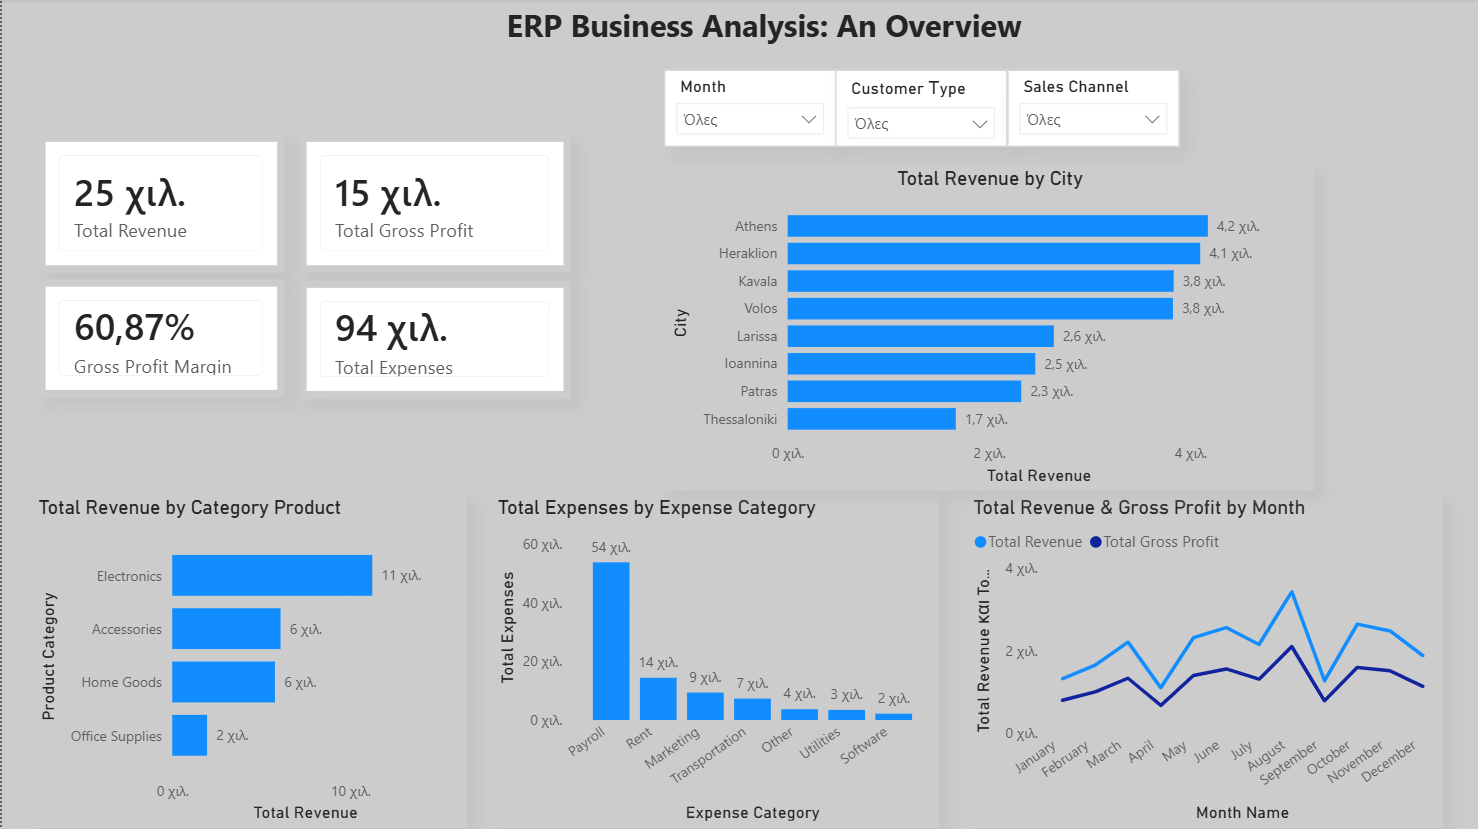

What the dashboard file says about the page in this screenshot:
{"tool":"powerbi","page":{"name":"Overview","canvas":[1280,720],"ordinal":0},"visuals":[{"type":"cardVisual","fields":{"Data":["Sum(view.Revenue)"]},"box":[32,118.3,213,119.5],"z":0},{"type":"cardVisual","fields":{"Data":["Sum(view.Gross_Profit)"]},"box":[258,118.3,235.5,119.5],"z":1000},{"type":"cardVisual","fields":{"Data":["Sum(expenses.amount)"]},"box":[258,245,235.5,103],"z":2000},{"type":"lineChart","title":"Total Revenue & Gross Profit by Month","fields":{"Category":["calendar.month_name"],"Y":["Sum(view.Revenue)","Sum(view.Gross_Profit)"]},"box":[836.7,430.8,413,288.8],"z":3000},{"type":"barChart","title":"Total Revenue by Category Product","fields":{"Y":["Sum(view.Revenue)"],"Category":["view.product_category"]},"box":[26,430.8,377.5,288.8],"z":4000},{"type":"clusteredColumnChart","title":"Total Expenses by Expense Category","fields":{"Y":["Sum(expenses.amount)"],"Category":["expenses.expense_category"]},"box":[423.7,430.8,388.2,288.8],"z":5000},{"type":"slicer","title":"Month","fields":{"Values":["calendar.month_name"]},"box":[574,62.7,149.1,66.3],"z":6000},{"type":"slicer","fields":{"Values":["view.customer_type"]},"box":[723.1,62.7,149.1,66.3],"z":7000},{"type":"cardVisual","fields":{"Data":["calendar.Gross Profit Margin"]},"box":[32,243.8,213,103],"z":8000},{"type":"slicer","fields":{"Values":["view.sales_channel"]},"box":[872.2,62.7,149.1,66.3],"z":9000},{"type":"clusteredBarChart","title":"Total Revenue by City","fields":{"Category":["view.city"],"Y":["Sum(view.Revenue)"]},"box":[574,145.6,563.3,281.7],"z":9001},{"type":"textbox","box":[138.5,0,1045,61.5],"z":9002}]}

Visuals, with their boxes in screenshot pixels (x1, y1, x2, y2), scaled from the page's 1280x720 canvas onto the 1478x829 screenshot:
cardVisual - Sum(view.Revenue): 37/136/283/274
cardVisual - Sum(view.Gross_Profit): 298/136/570/274
cardVisual - Sum(expenses.amount): 298/282/570/401
"Total Revenue & Gross Profit by Month" lineChart: 966/496/1443/828
"Total Revenue by Category Product" barChart: 30/496/466/828
"Total Expenses by Expense Category" clusteredColumnChart: 489/496/937/828
"Month" slicer: 663/72/835/149
slicer - view.customer_type: 835/72/1007/149
cardVisual - calendar.Gross Profit Margin: 37/281/283/399
slicer - view.sales_channel: 1007/72/1179/149
"Total Revenue by City" clusteredBarChart: 663/168/1313/492
textbox: 160/0/1367/71
